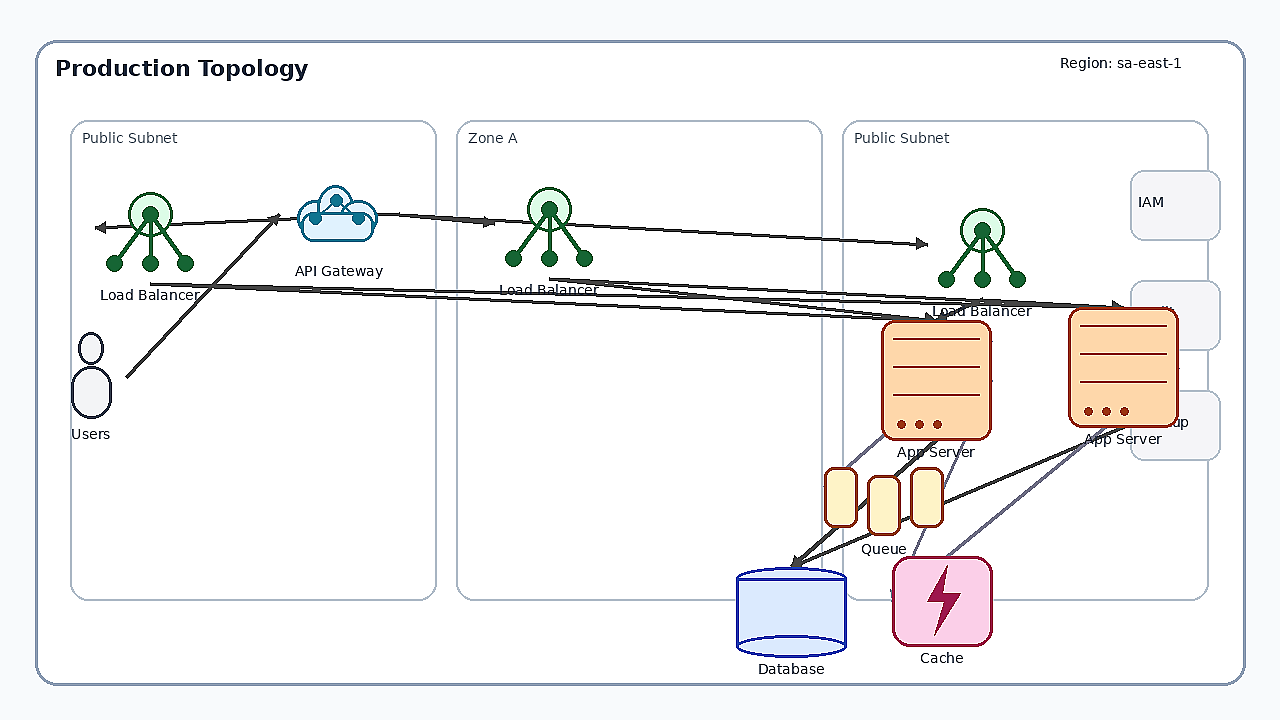API Gateway: (279, 169, 399, 259)
Application Server: (1068, 307, 1178, 427), (881, 320, 991, 440)
Cache: (892, 556, 992, 646)
Database: (736, 567, 846, 657)
Load Balancer: (927, 189, 1037, 299), (494, 168, 604, 278), (95, 173, 205, 283)
Message Queue: (824, 467, 944, 537)
User: (56, 332, 126, 422)
